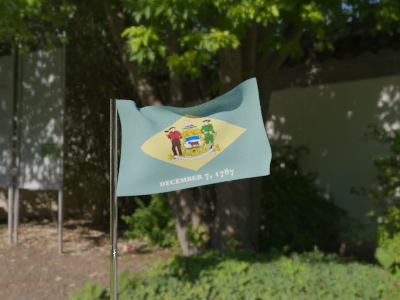Delaware flag: (116, 76, 274, 197)
